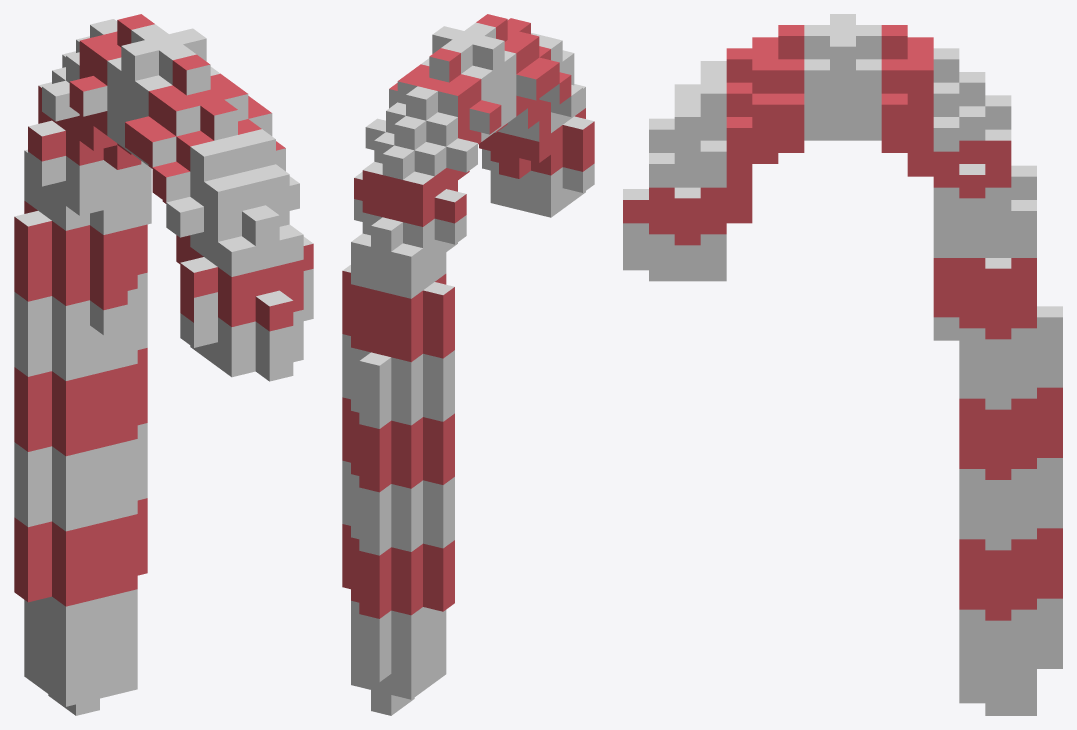
Rendered from Sugar_stick(1).fbx.
The picture shows the model from 3 angles, left to right: view 1: azimuth 30°, elevation 25°; view 2: azimuth 150°, elevation 25°; view 3: azimuth 270°, elevation 25°; orthographic projection. The views are drawn at different scales.
Parts seen in each view (by area): view 1: Cube.003; view 2: Cube.003; view 3: Cube.003.
Boxes of the visible parts, x1,y1,x2,y2 form: Cube.003: (14, 14, 313, 715); Cube.003: (342, 14, 594, 715); Cube.003: (623, 14, 1062, 715).
Bounding box in the file's own units: 86.64 × 503 × 295.
